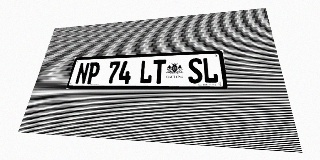4: (117, 61, 132, 84)
7: (105, 61, 121, 84)
L: (202, 57, 219, 83), (139, 60, 153, 84)
N: (74, 62, 90, 84)
P: (85, 62, 101, 84)
S: (188, 58, 203, 83)
T: (152, 59, 166, 84)
